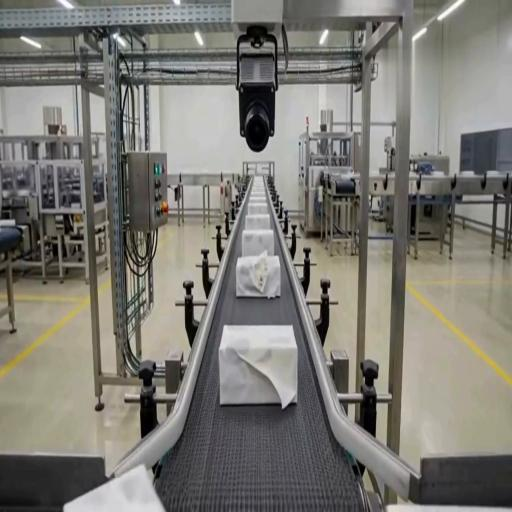defective: (218, 324, 297, 407), (66, 465, 166, 511), (237, 254, 280, 298)
good: (241, 228, 274, 257), (244, 213, 271, 234), (246, 199, 269, 215)
